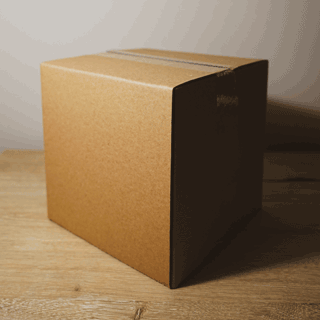undamaged: (36, 45, 273, 297)
